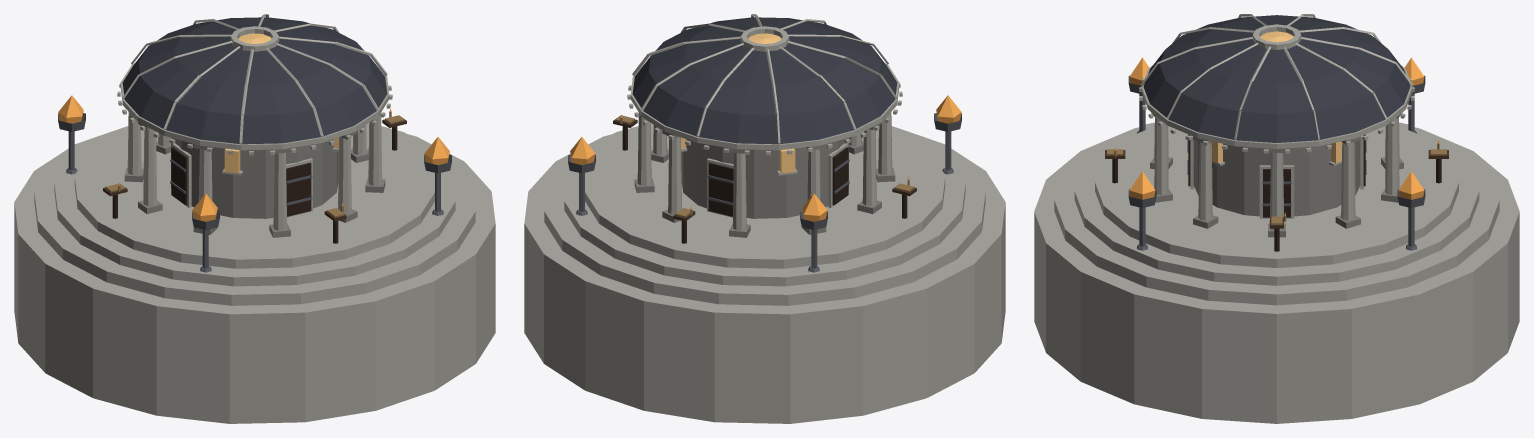
File: lyceum.glb
3 views of the same model, side by side, from view 1: azimuth 30°, elevation 25°; view 2: azimuth 150°, elevation 25°; view 3: azimuth 270°, elevation 25° (orthographic).
Parts seen in each view (by area): view 1: lyceum hall@hall, lyceum hall close@hall!fine; view 2: lyceum hall@hall, lyceum hall close@hall!fine; view 3: lyceum hall@hall, lyceum hall close@hall!fine.
Part boxes in pixels (x1,y1,x2,y2): lyceum hall@hall: (14, 17, 495, 423); lyceum hall close@hall!fine: (66, 14, 443, 272); lyceum hall@hall: (524, 17, 1005, 423); lyceum hall close@hall!fine: (576, 14, 953, 272); lyceum hall@hall: (1034, 15, 1519, 423); lyceum hall close@hall!fine: (1114, 14, 1439, 250).
Bounding box in the file's own units: 12 × 7.82 × 12.
